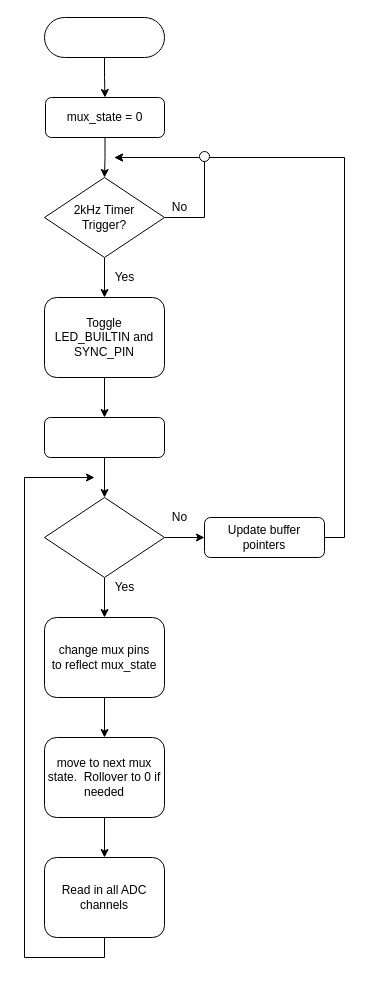
Some shapes in this 370 by 983 pixel diagram are drawn without their labels. The shapes that lost their labels are listed below. From the top down, each one's centre as x and y in pixels, then its label:
At point (104, 37): "START".
At point (104, 437): "j = 0".
At point (104, 537): "j < MUXED_CHAN".
